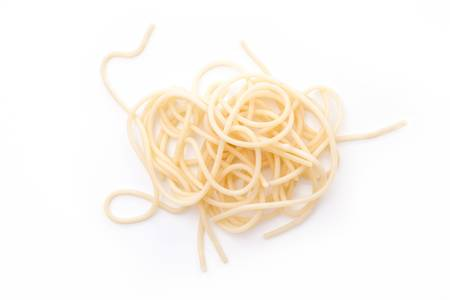plain spaghetti: (94, 36, 368, 241)
